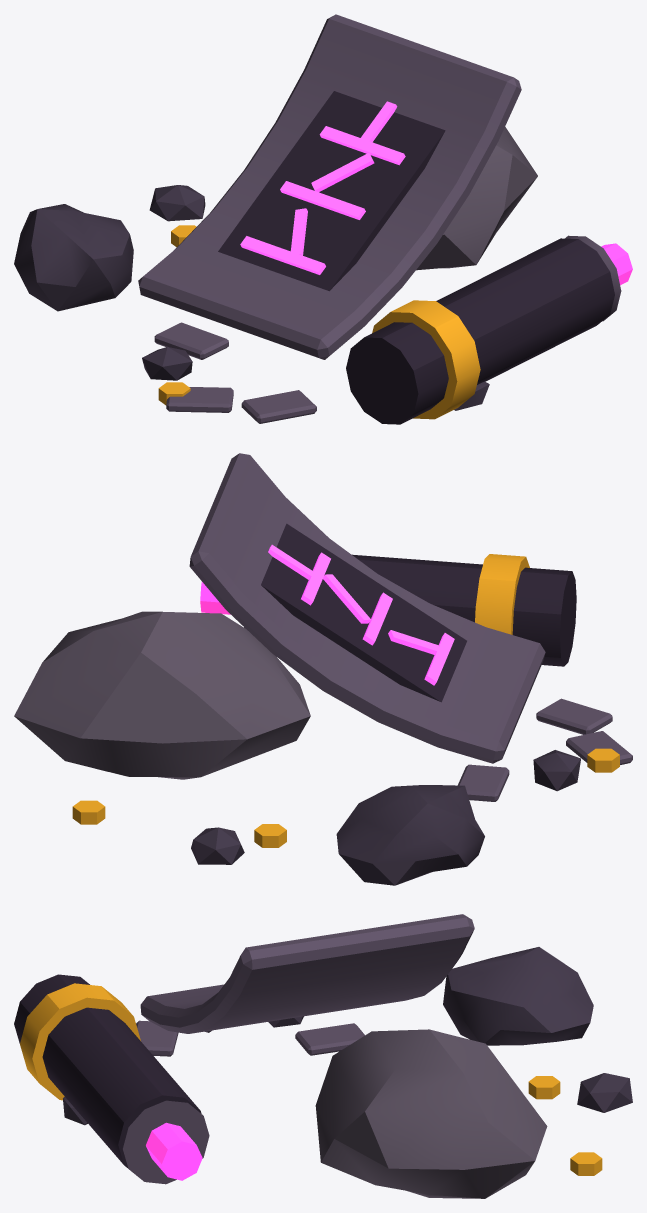
Rendered from rubble__lower.glb.
3 renders of one model, top to bottom at view 1: azimuth 30°, elevation 25°; view 2: azimuth 150°, elevation 25°; view 3: azimuth 270°, elevation 25°, orthographic. The views are drawn at different scales.
Parts seen in each view (by area): view 1: Body; view 2: Body; view 3: Body.
Part boxes in pixels (left/top/right/bottom): Body: left=14, top=14, right=632, bottom=424; Body: left=14, top=453, right=632, bottom=885; Body: left=14, top=914, right=632, bottom=1198.
Bounding box in the file's own units: 0.7352 × 0.3493 × 0.8538.
